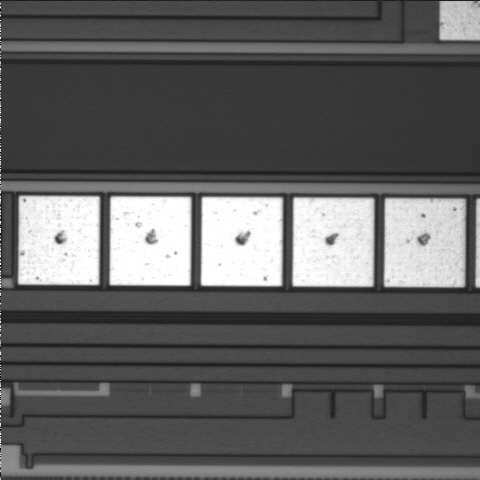pad: (18, 196, 100, 285), (201, 197, 283, 286), (110, 197, 191, 286), (293, 198, 374, 287), (384, 198, 465, 287)
